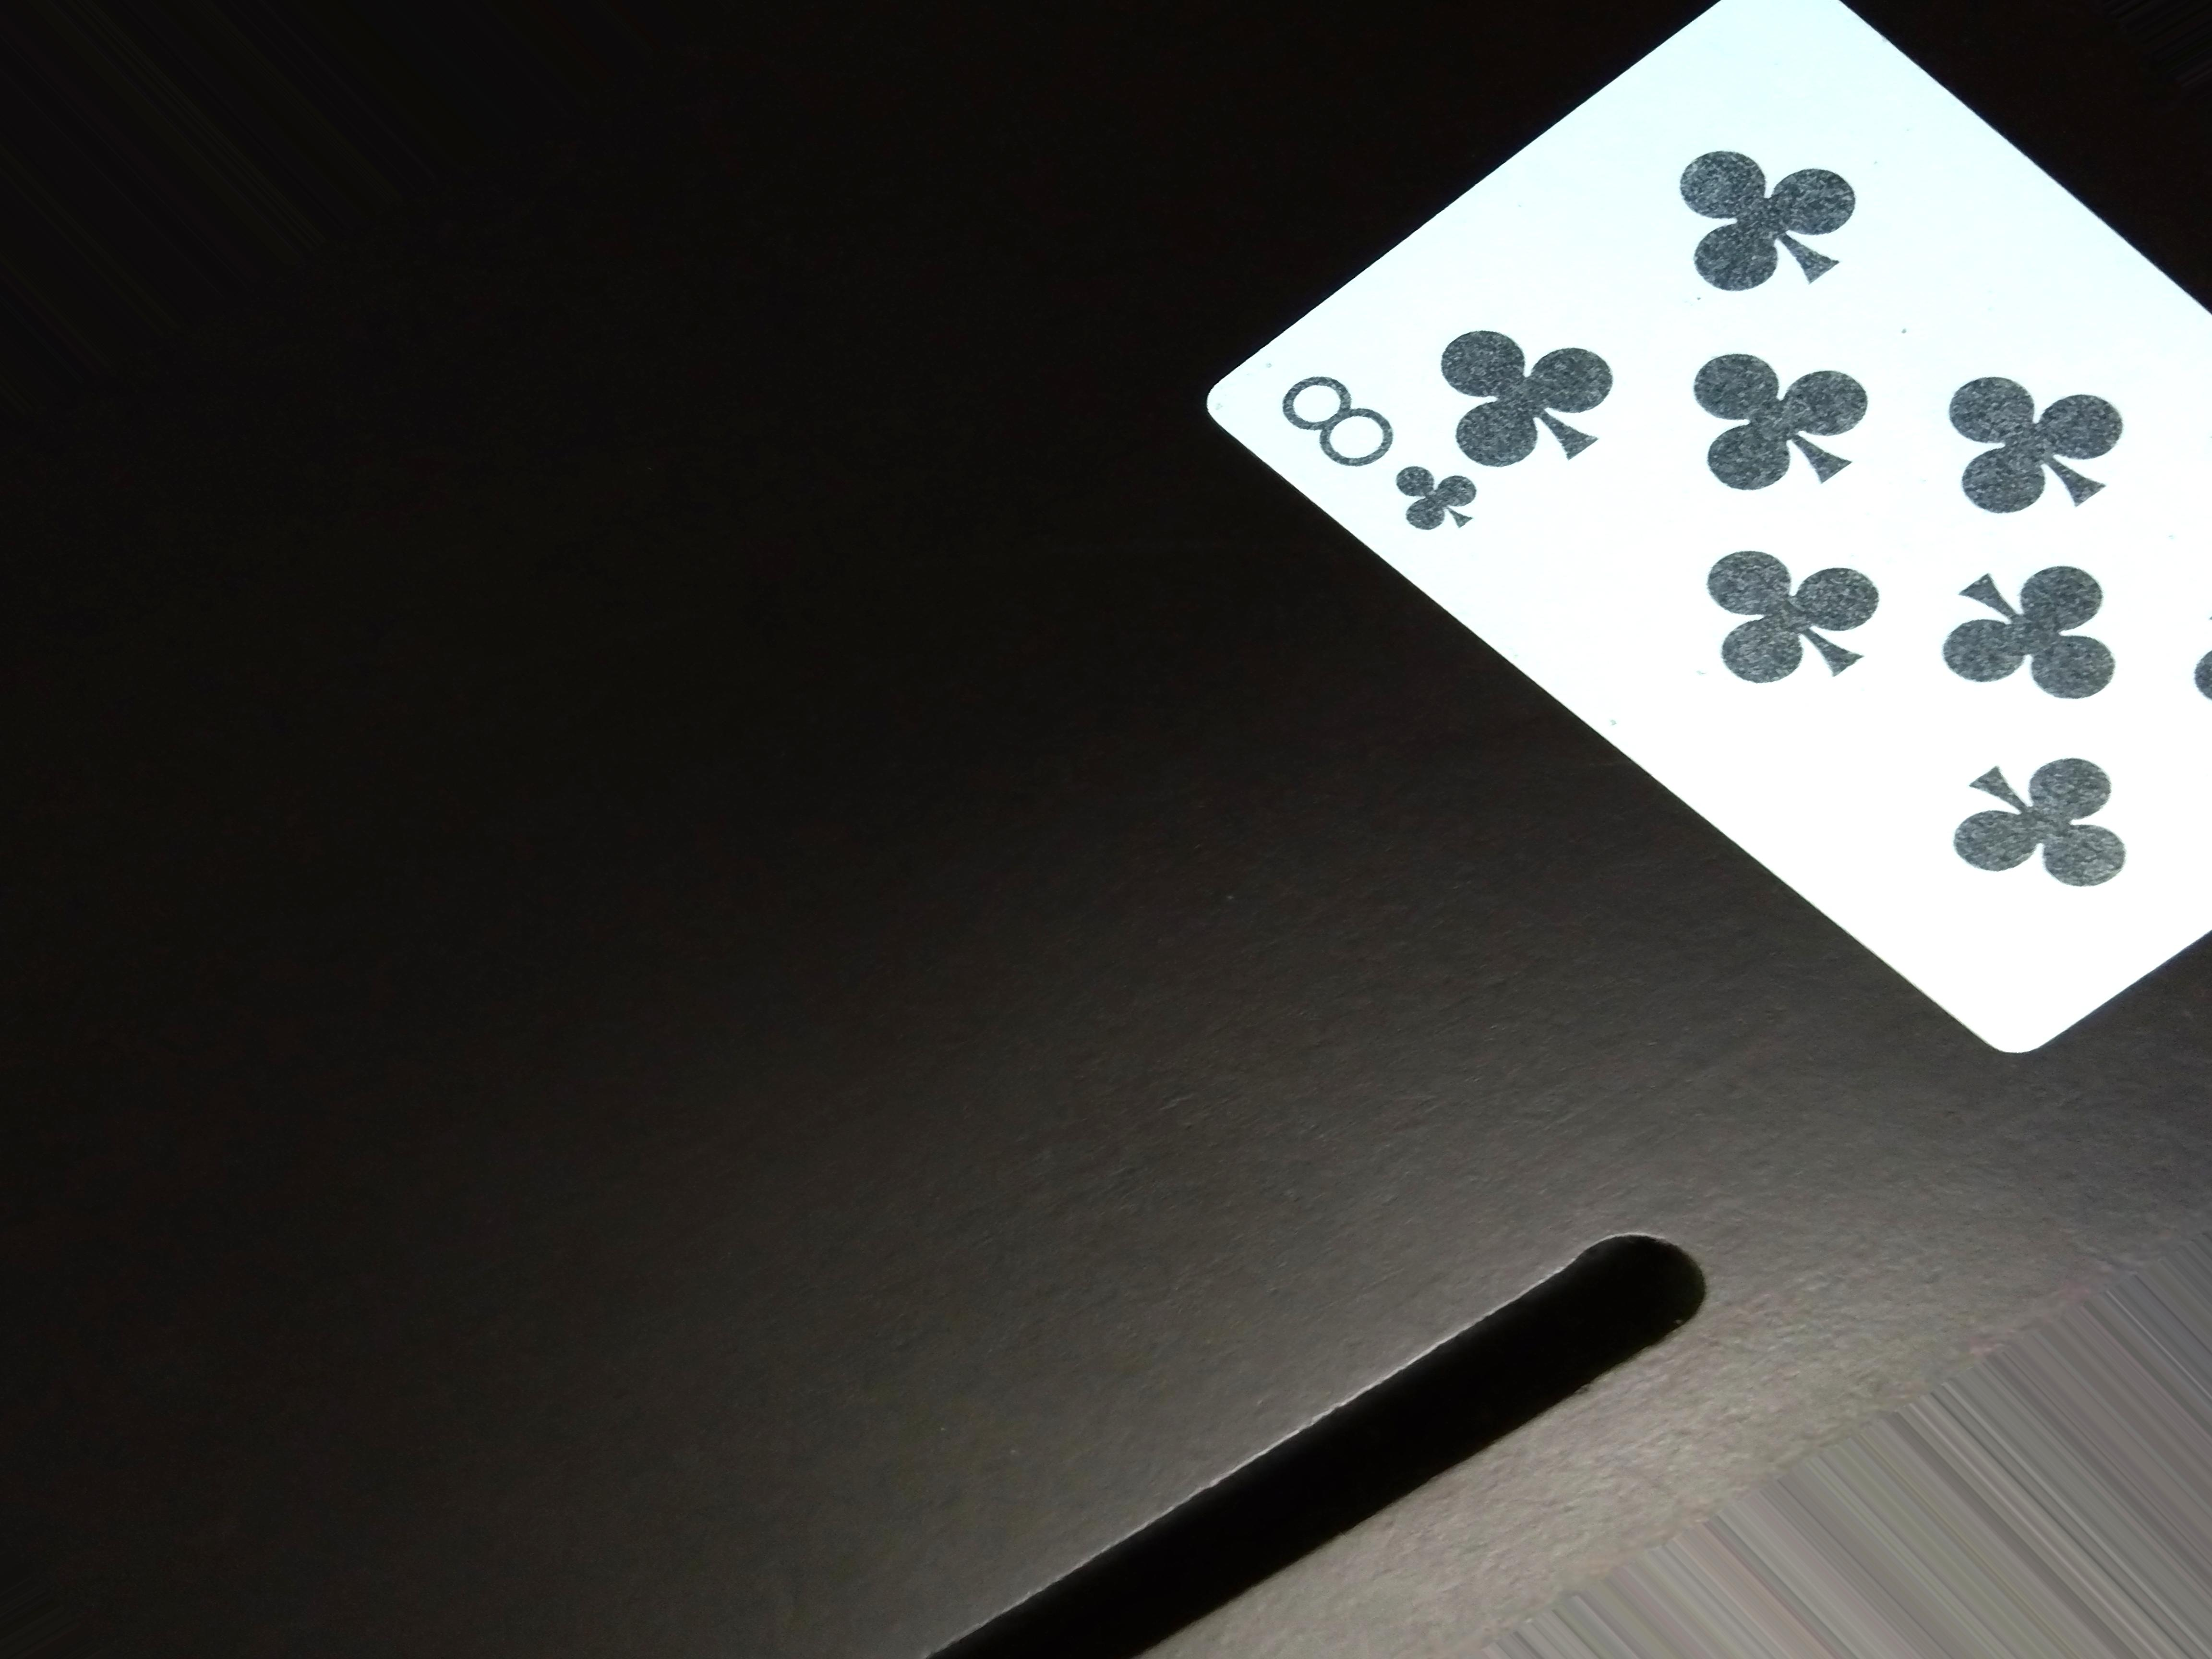8C: (1277, 369, 1521, 559)
